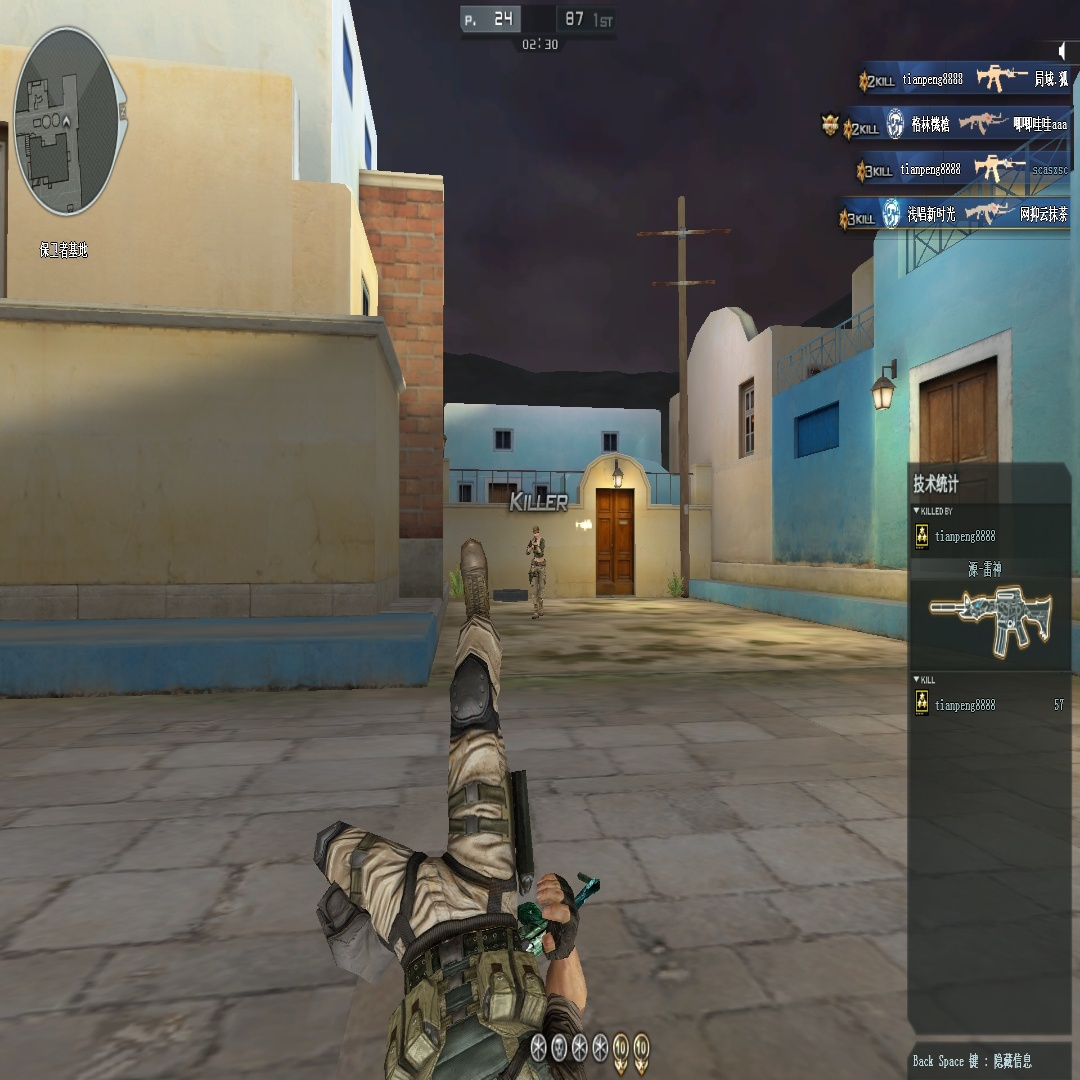p: (525, 522, 548, 609)
